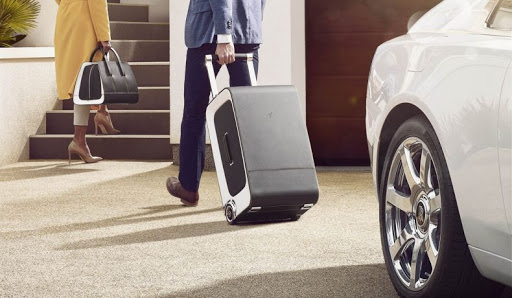luggage: (204, 85, 327, 226)
shoulder bag: (69, 48, 146, 111)
